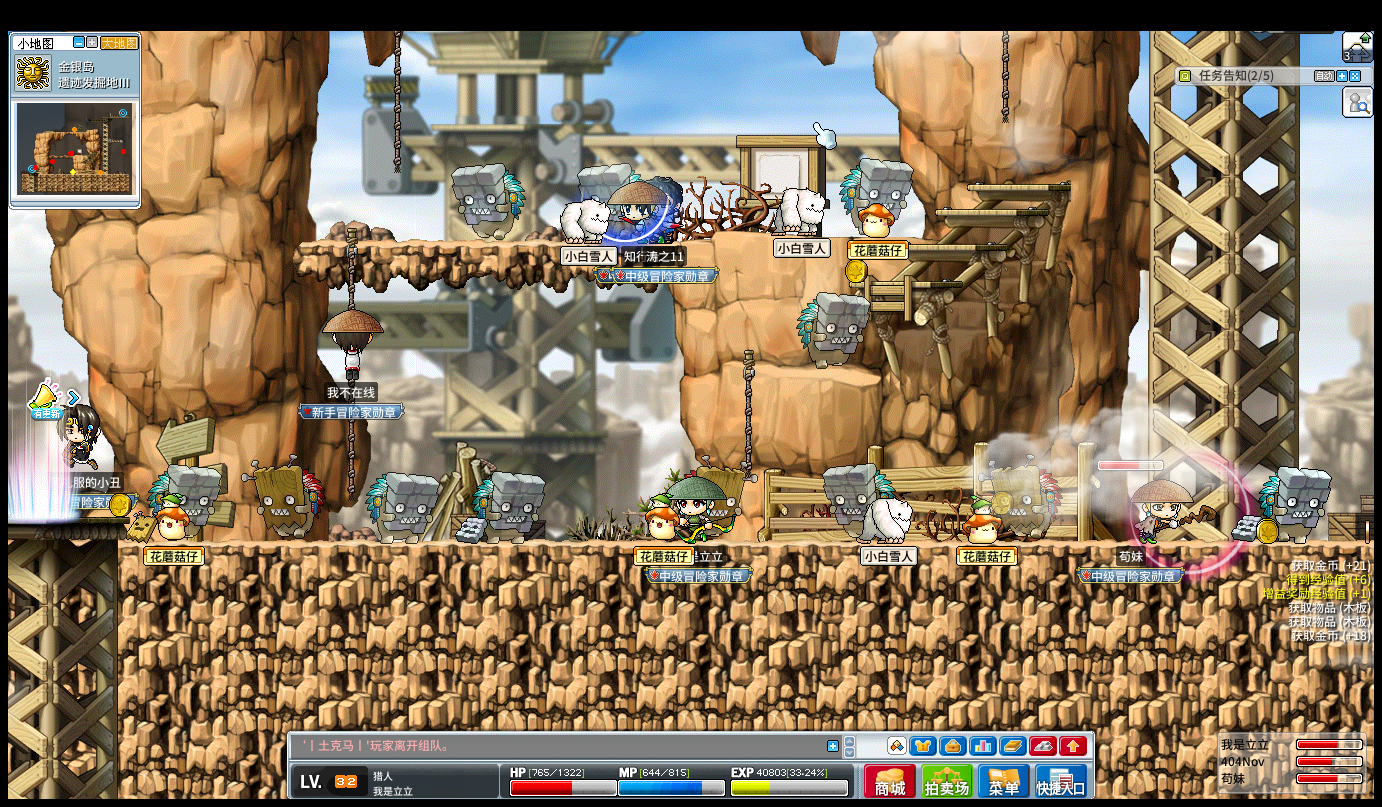floor: (294, 238, 681, 249), (769, 364, 883, 387), (762, 233, 936, 240), (7, 516, 129, 525), (932, 207, 1049, 215), (855, 280, 961, 288), (965, 184, 1072, 191), (896, 244, 1009, 250)
monster: (984, 457, 1062, 539), (247, 459, 324, 542), (452, 163, 526, 243), (796, 291, 870, 369), (363, 471, 438, 544), (1260, 466, 1332, 542), (473, 471, 545, 545), (840, 159, 915, 201), (578, 164, 625, 200)
rope: (741, 350, 754, 479), (393, 29, 402, 168), (343, 226, 355, 307), (1000, 31, 1010, 123), (345, 419, 354, 497)
